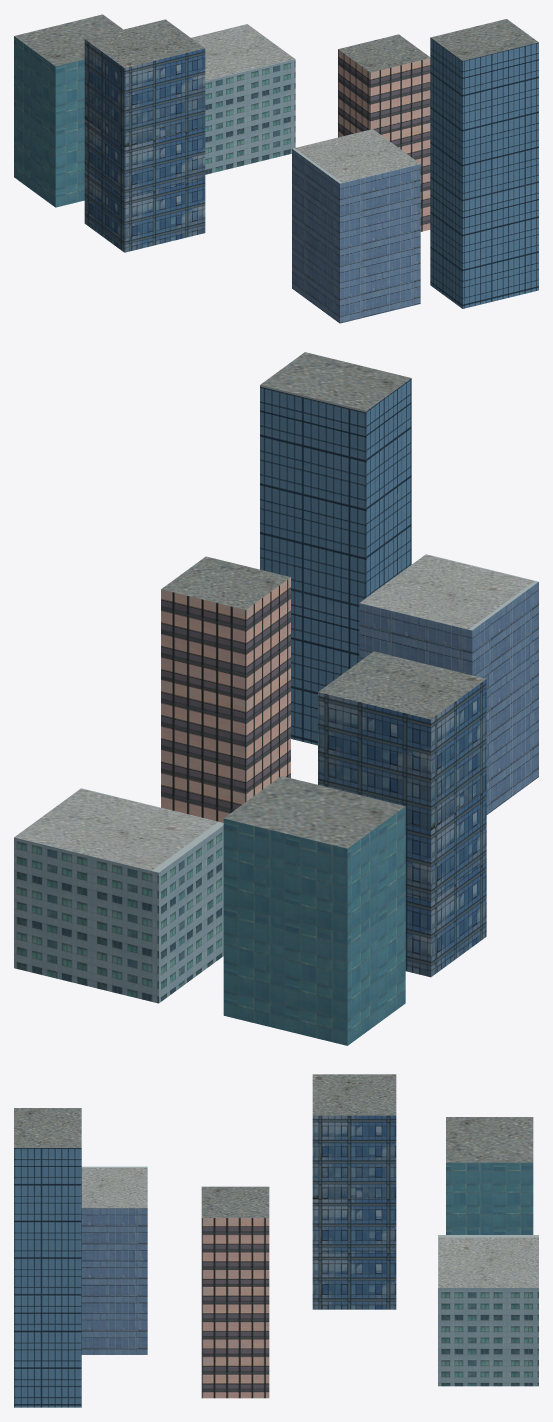
File: duoge_qian02_init.FBX
The picture shows the model from 3 angles, top to bottom: view 1: azimuth 30°, elevation 25°; view 2: azimuth 150°, elevation 25°; view 3: azimuth 270°, elevation 25°; orthographic projection. The views are drawn at different scales.
Parts seen in each view (by area): view 1: duoge_qian02_init; view 2: duoge_qian02_init; view 3: duoge_qian02_init.
Part boxes in pixels (x1,y1,x2,y2): duoge_qian02_init: (14,14,538,323); duoge_qian02_init: (14,352,538,1045); duoge_qian02_init: (14,1074,538,1407).
Size of the model in its own units: 11971 by 10214 by 18658.
